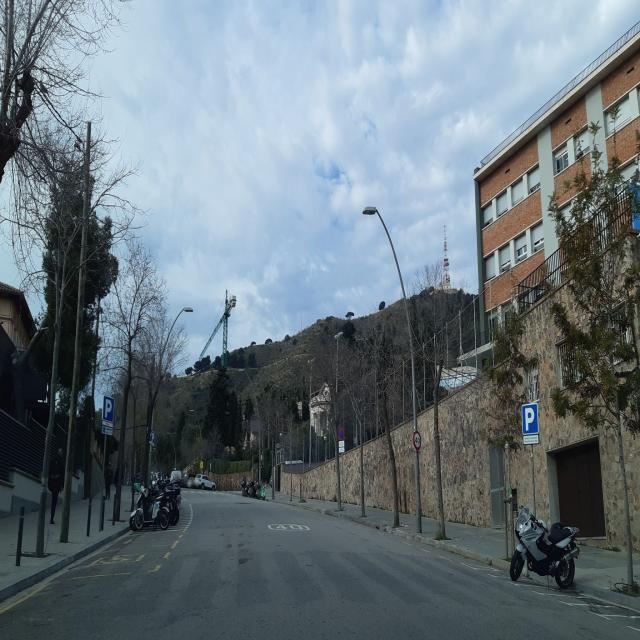bike: (509, 504, 579, 590), (134, 480, 180, 530)
car: (190, 473, 216, 490)
